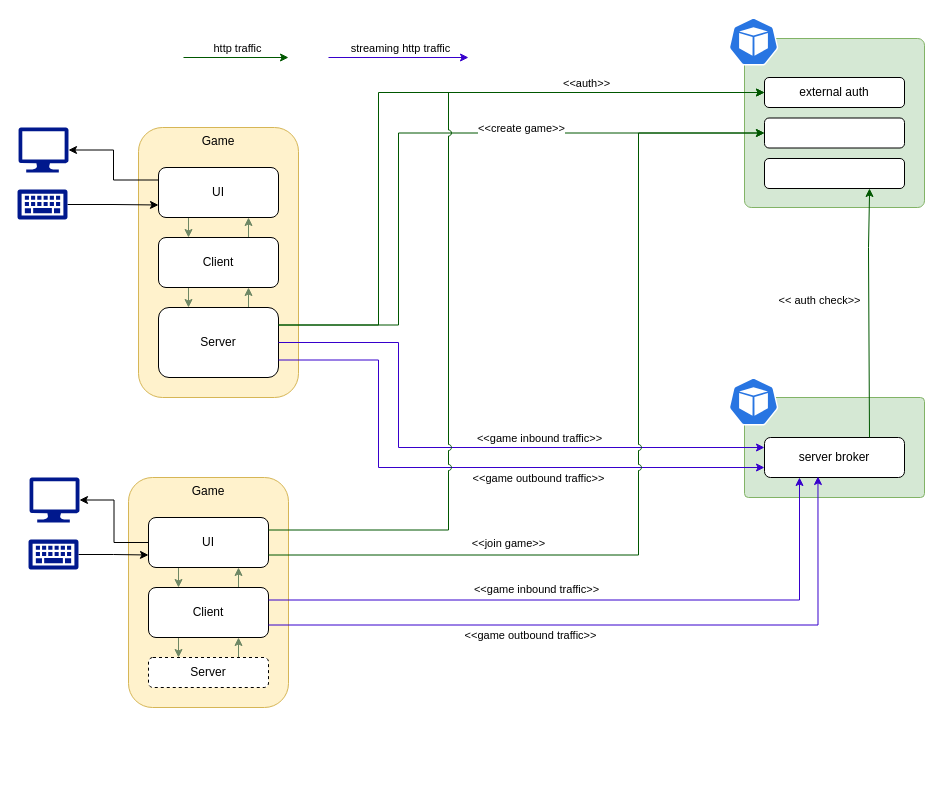
Some shapes in this 942 by 795 pixel diagram are drawn without their labels. Here are the shapes that lost their labels. From the top down, the box of each, then its label:
(744, 38, 924, 208): gs-hub pod
(764, 117, 904, 148): hub
(764, 158, 904, 188): internal auth
(744, 396, 924, 498): gs-broker pod
